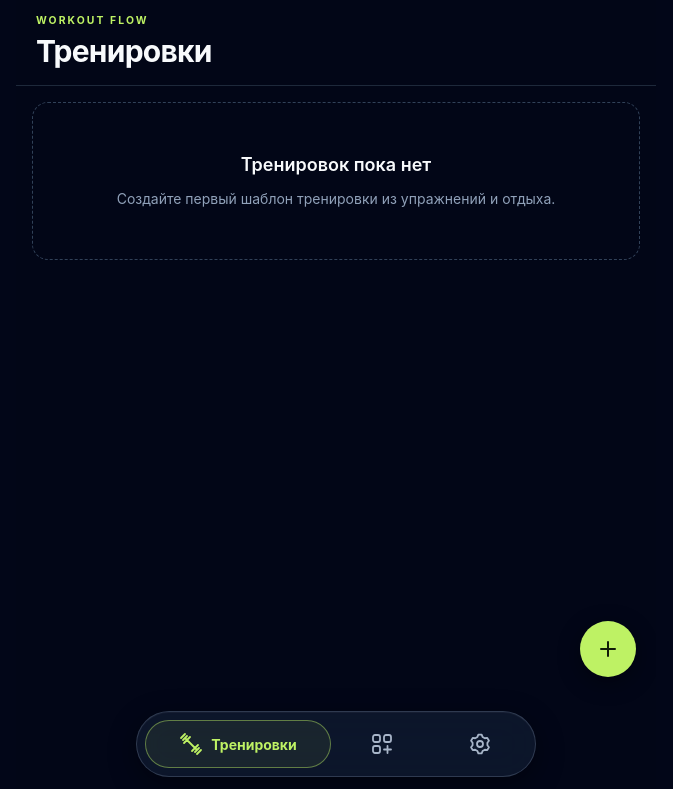
workout template creation › opens the form and validates the name and steps
Expected: the heading "Тренировок пока нет" is shown, 241,154 -> 431,175
Click the button named "Создать тренировку": (608, 649) 580,621 -> 636,677
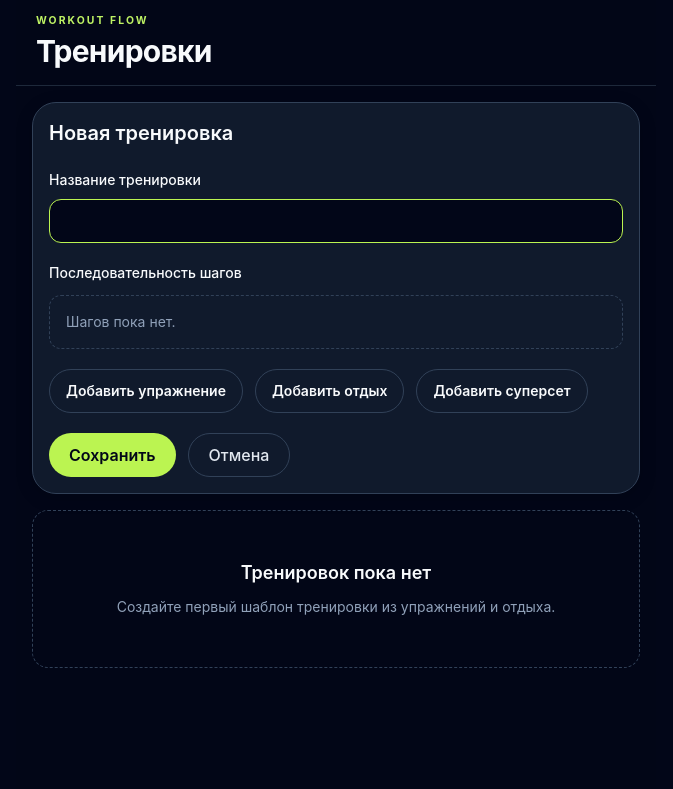
Expected: the heading "Новая тренировка" is shown, 49,121 -> 233,145
Click the button "Сохранить": (112, 455) 49,433 -> 176,477
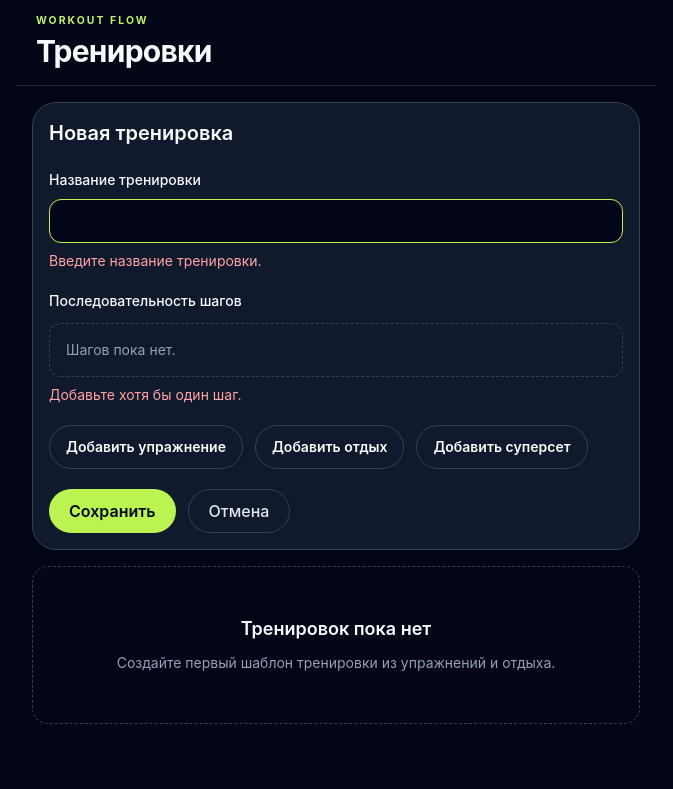
Expected: the text "Введите название тренировки." is shown, 49,252 -> 262,269
Expected: the text "Добавьте хотя бы один шаг." is shown, 49,386 -> 242,403
